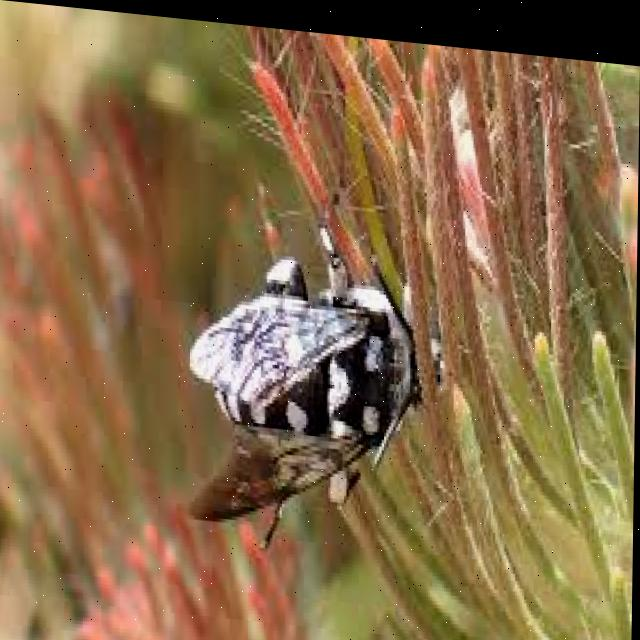Thyreus: (176, 198, 440, 561)
